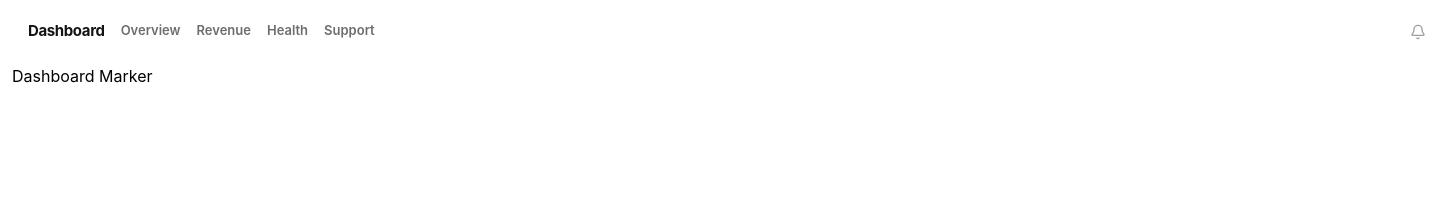
Test: Navbar notification bell › clicking an already-read notification navigates without re-marking it read
Click the button named "Notifications": (1418, 32) [1400,14,1436,50]
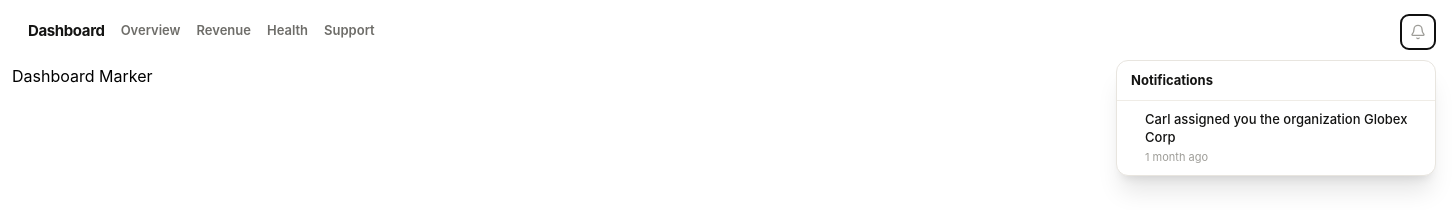
Click the text "Carl assigned you the organization Globex Corp": (1283, 129) [1145,111,1421,147]
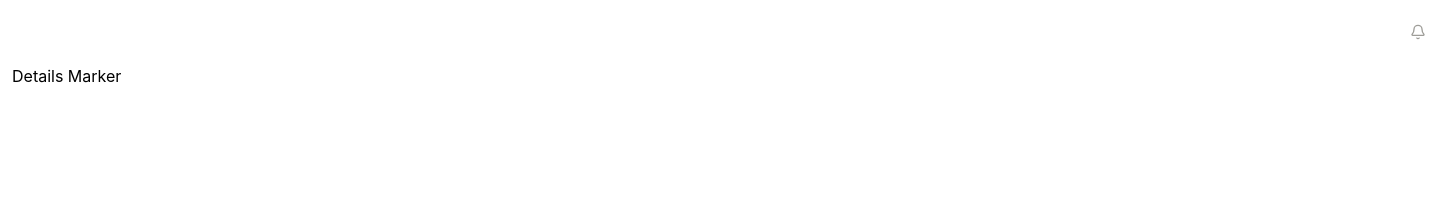
Now the text "Details Marker" is shown, box [12,66,121,86]
